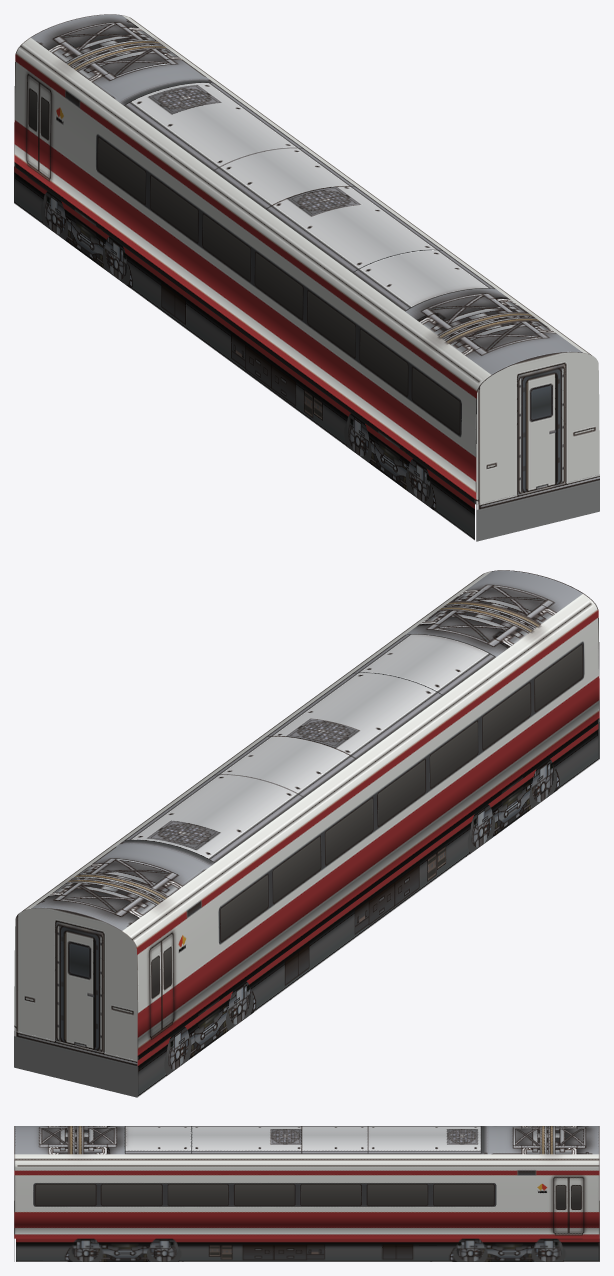
File: car3.glb
The picture shows the model from 3 angles, top to bottom: view 1: azimuth 30°, elevation 25°; view 2: azimuth 150°, elevation 25°; view 3: azimuth 270°, elevation 25°; orthographic projection. The views are drawn at different scales.
Visible parts, largest first — view 1: nankai-31000-car3; view 2: nankai-31000-car3; view 3: nankai-31000-car3.
Boxes of the visible parts, left/top/right/bottom form: nankai-31000-car3: left=14, top=14, right=599, bottom=541; nankai-31000-car3: left=14, top=570, right=599, bottom=1097; nankai-31000-car3: left=14, top=1126, right=599, bottom=1261.
Size of the model in its own units: 2.74 by 3.6 by 17.81.
9 materials, 8 textured.
